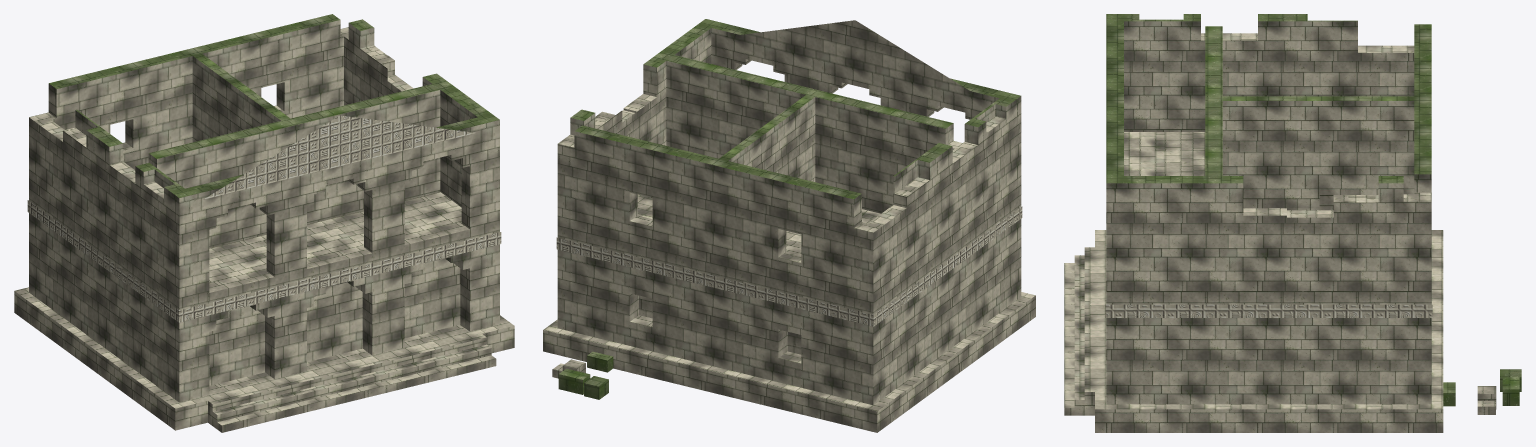
File: ruin-arcade-c.zfix-v11.lod1.glb
3 views of the same model, side by side, from view 1: azimuth 30°, elevation 25°; view 2: azimuth 150°, elevation 25°; view 3: azimuth 270°, elevation 25° (orthographic). The views are drawn at different scales.
Visible parts, largest first — view 1: ruin-arcade-c; view 2: ruin-arcade-c; view 3: ruin-arcade-c.
Boxes of the visible parts, <box> form: ruin-arcade-c: <box>14,14,514,432</box>; ruin-arcade-c: <box>543,19,1035,432</box>; ruin-arcade-c: <box>1064,14,1521,432</box>.
Size of the model in its own units: 14.6 by 11.1 by 15.75.
Materials: 3 (3 with a texture image).
